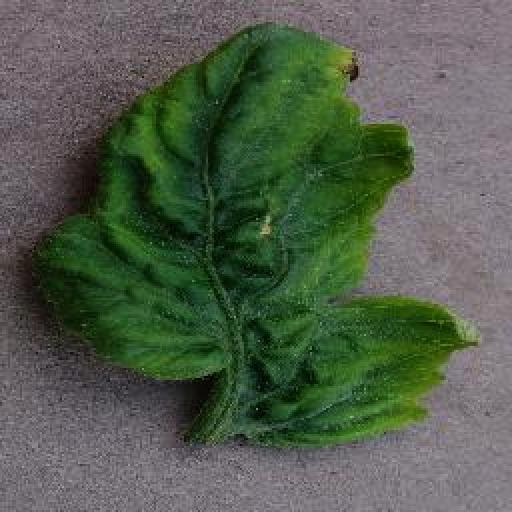disease_tomato: (28, 19, 482, 453)
